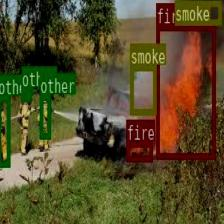fire: (155, 24, 215, 157), (126, 140, 152, 160)
smoke: (130, 64, 156, 113), (174, 0, 221, 24)
